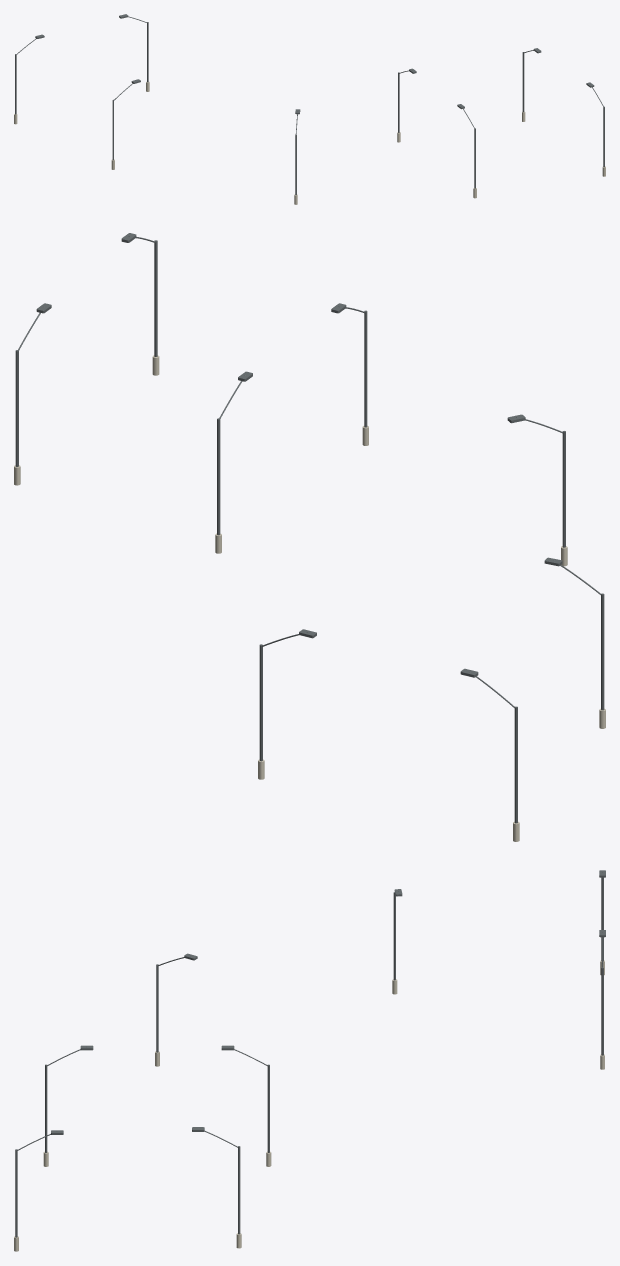
3 views of the same model, one above another, from view 1: azimuth 30°, elevation 25°; view 2: azimuth 150°, elevation 25°; view 3: azimuth 270°, elevation 25° (orthographic). The views are drawn at different scales.
Parts seen in each view (by area): view 1: buildings_s_-11_5_Dark_Metal, buildings_s_-11_5_Warm_Limestone; view 2: buildings_s_-11_5_Dark_Metal, buildings_s_-11_5_Warm_Limestone; view 3: buildings_s_-11_5_Dark_Metal, buildings_s_-11_5_Warm_Limestone.
Boxes of the visible parts, bbox=[...] form: buildings_s_-11_5_Dark_Metal: bbox=[15, 14, 604, 195]; buildings_s_-11_5_Warm_Limestone: bbox=[14, 81, 605, 204]; buildings_s_-11_5_Dark_Metal: bbox=[15, 233, 604, 823]; buildings_s_-11_5_Warm_Limestone: bbox=[14, 355, 605, 841]; buildings_s_-11_5_Dark_Metal: bbox=[15, 870, 605, 1237]; buildings_s_-11_5_Warm_Limestone: bbox=[14, 960, 604, 1251].
Size of the model in its own units: 88.79 by 17.75 by 79.79.
